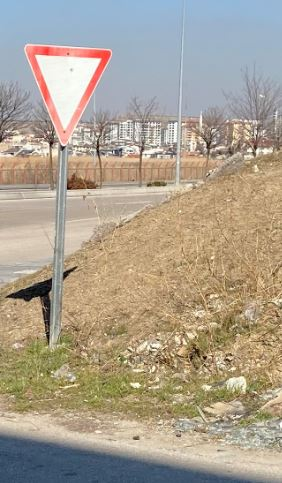Yol Ver: (26, 40, 115, 146)
